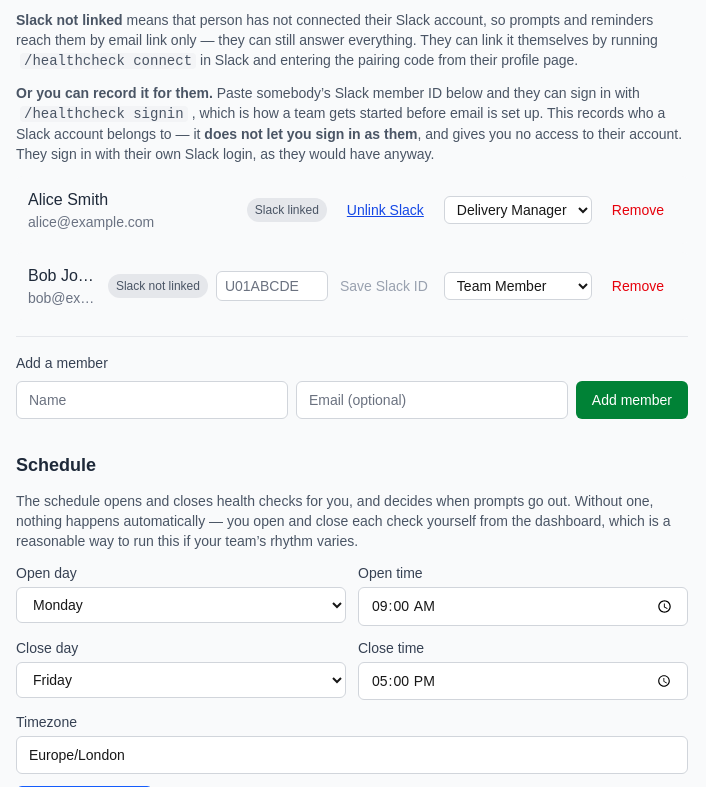
Scenario: Team Settings Page › Members Section (Req 1.3, 1.6, 1.7, 2.7, 19.5) › allows adding a new member
(page scrolled)
Expected: the text "Alice Smith" is shown, [28, 191, 108, 208]
In the field named "member name": (152, 400) [16, 381, 288, 419], type "Charlie"
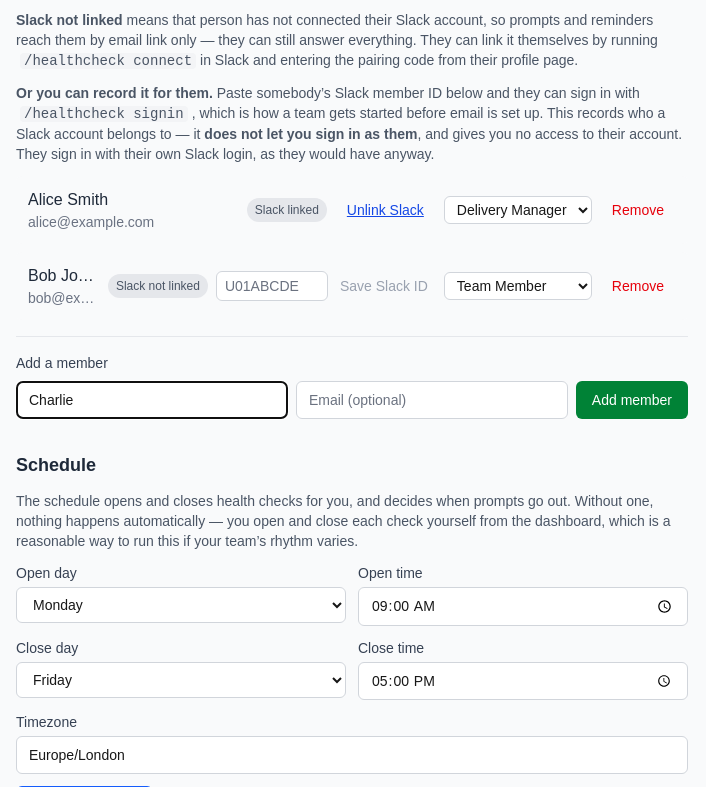
In the field named "member email": (432, 400) [296, 381, 568, 419], type "charlie@example.com"
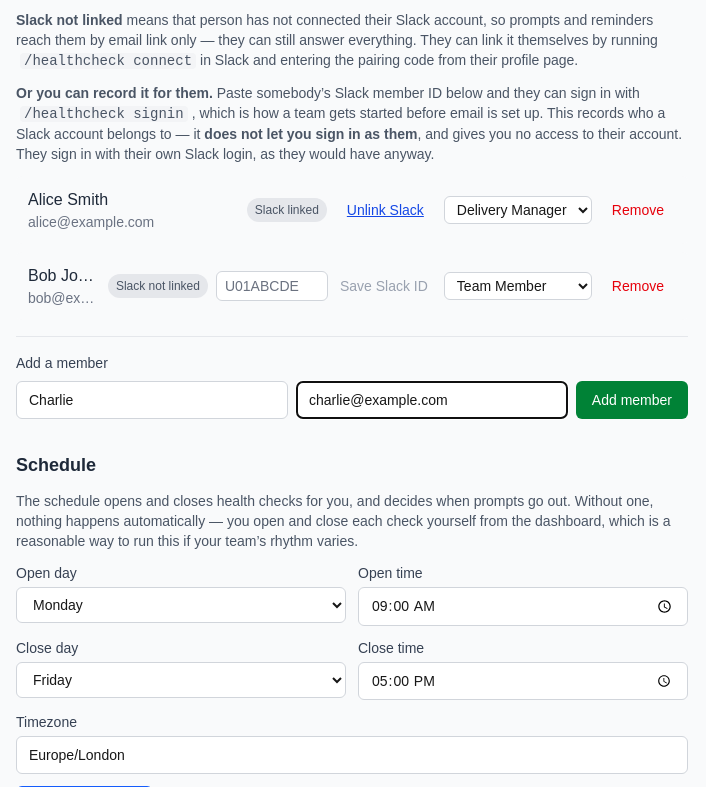
Click the button "Add member": (632, 400) [576, 381, 688, 419]
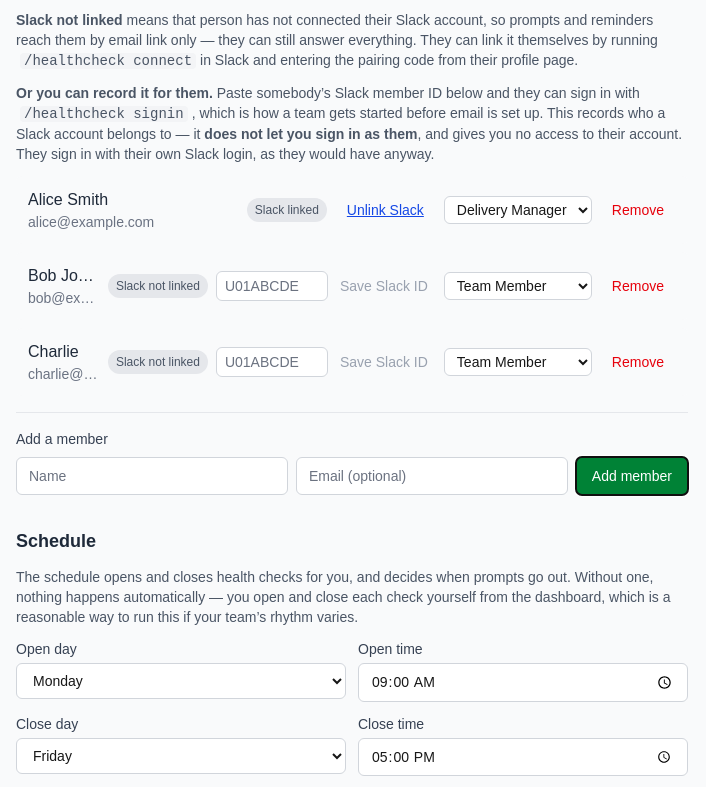
Result: the text "Charlie" is shown at [28, 343, 79, 360]
